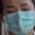with_mask: (2, 1, 35, 35)
